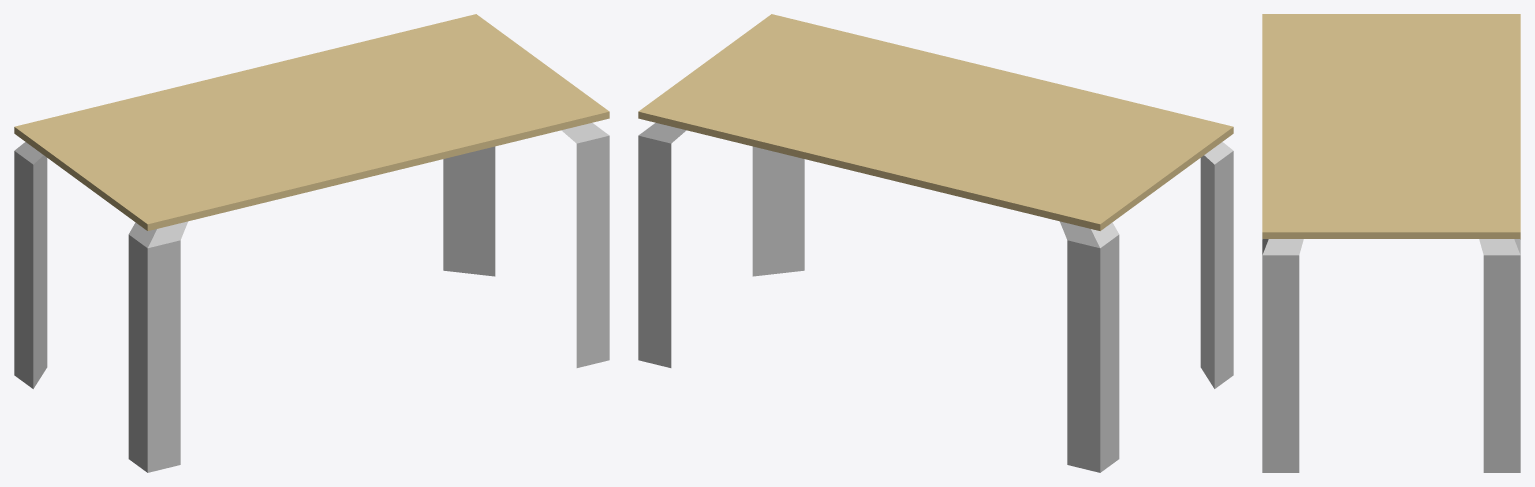
The model's file is basic_desk.dae.
The picture shows the model from 3 angles, left to right: view 1: azimuth 30°, elevation 25°; view 2: azimuth 150°, elevation 25°; view 3: azimuth 270°, elevation 25°; orthographic projection. The views are drawn at different scales.
Visible parts, largest first — view 1: basic_desk; view 2: basic_desk; view 3: basic_desk.
Boxes of the visible parts, bbox=[...] form: basic_desk: bbox=[14, 14, 609, 472]; basic_desk: bbox=[638, 14, 1233, 472]; basic_desk: bbox=[1262, 14, 1520, 472].
Size of the model in its own units: 1.4 by 0.7 by 0.72.
